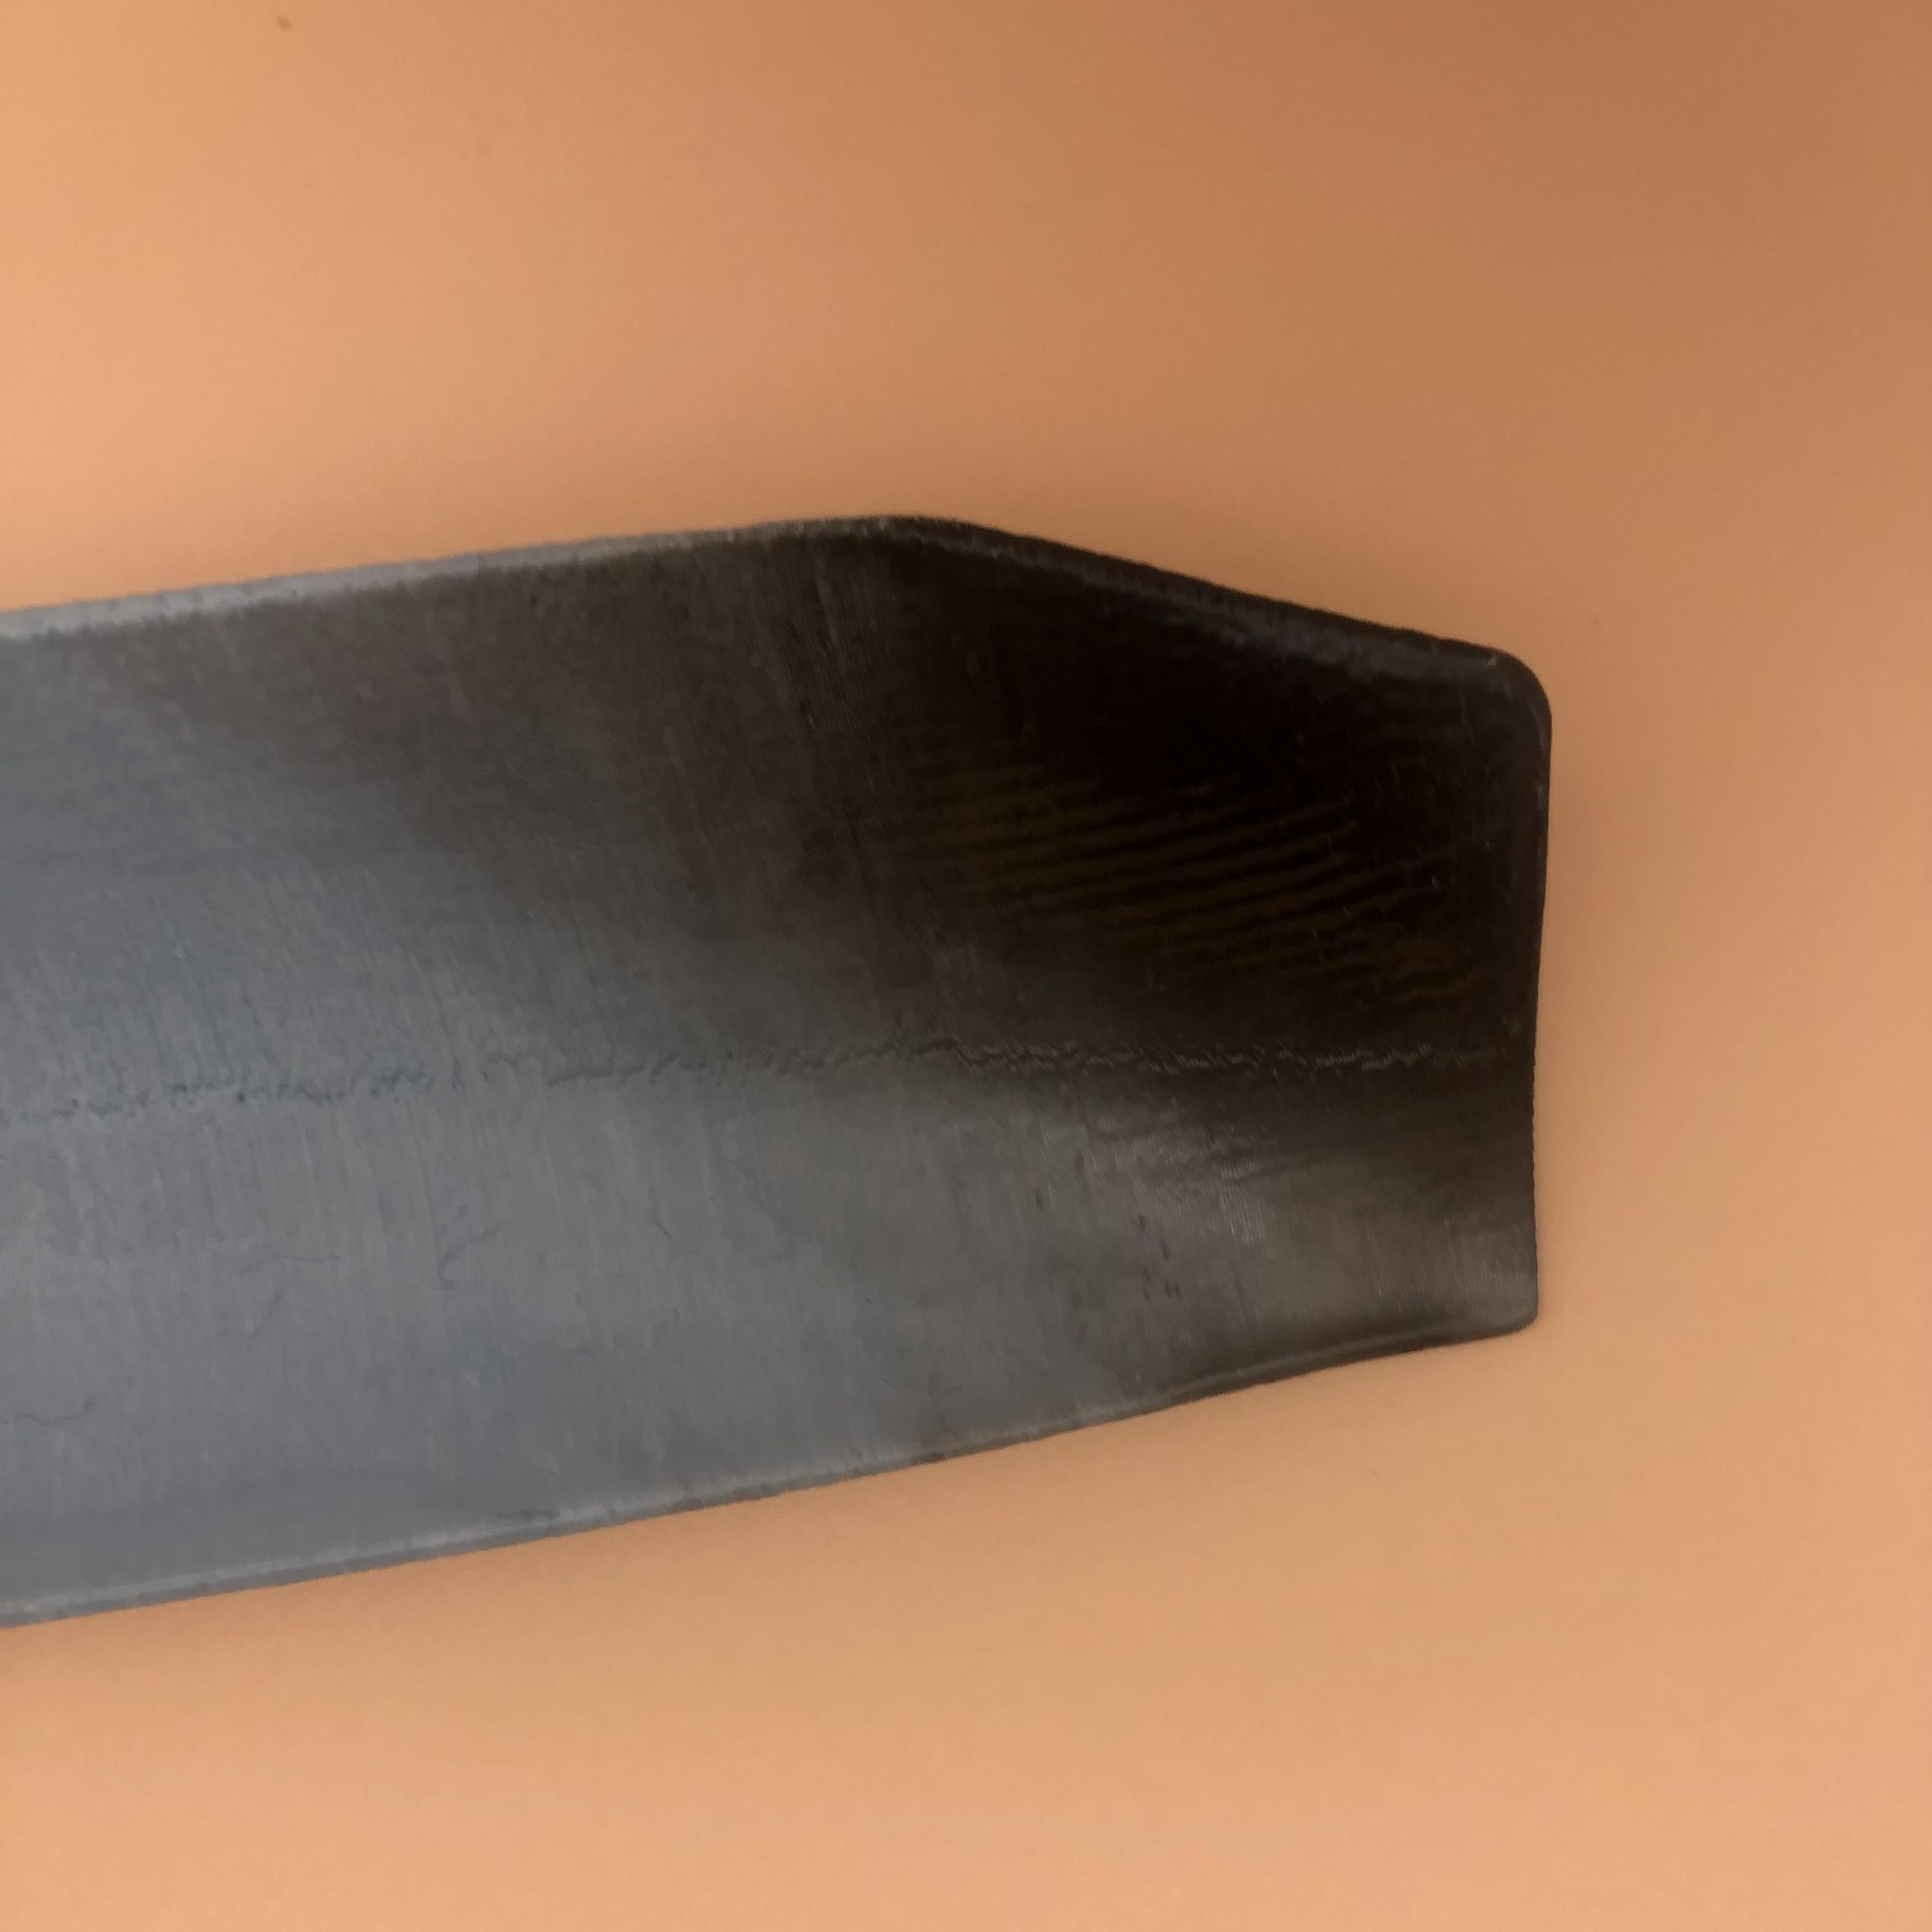ablation: (855, 598, 1481, 1270)
